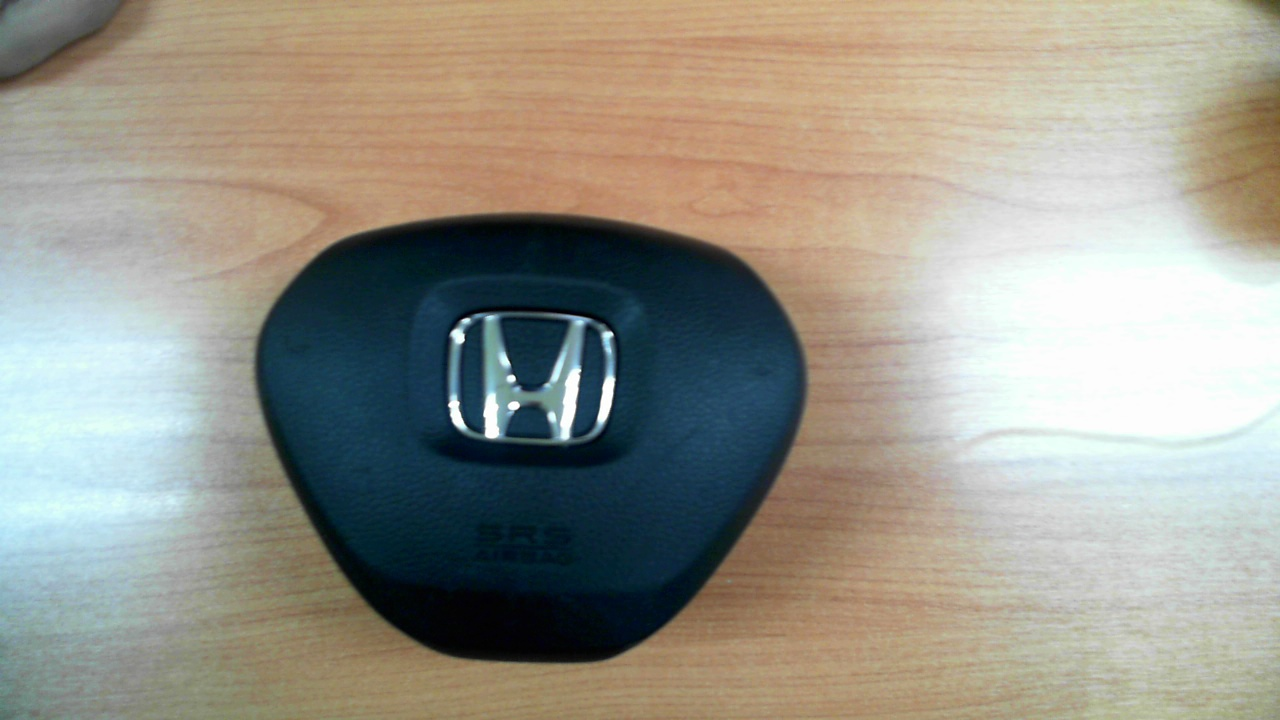Airbag: (254, 213, 808, 663)
Honda: (448, 311, 616, 445)
